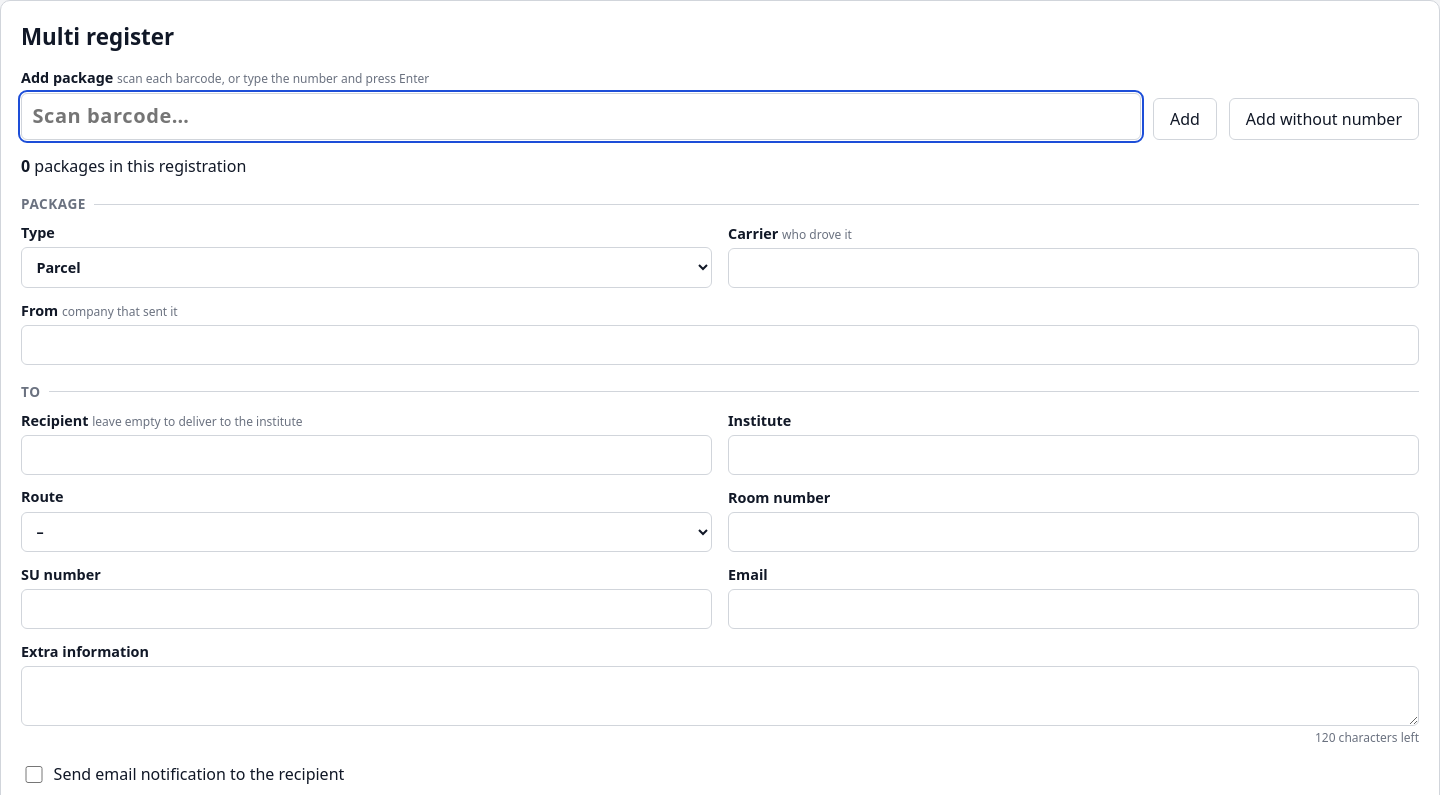
Test case: each scan adds a package; the first one fills in the shared details
This screenshot has width=1440, height=795.
Step 1. Type "SHIP-1" into the field labelled "Add package" → (581, 116), box [21,92,1141,140]
Then press Enter
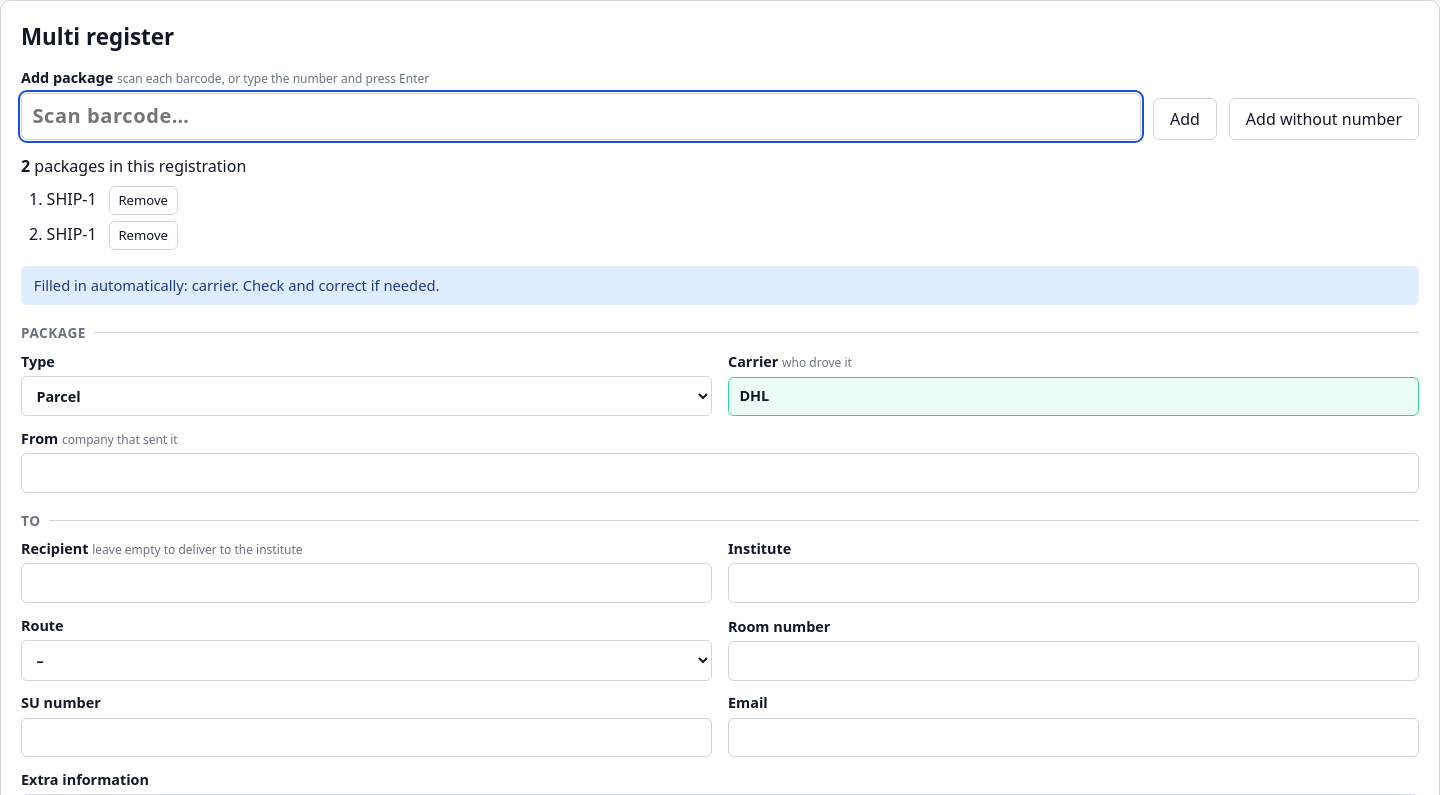
Expected: the text "SHIP-1" is shown 2 times, [47,188,97,210]; [47,223,97,245]
Expected: the text "2 packages in this registration" is shown, [21,154,246,176]
Expected: the field labelled "Carrier who drove it" holds "DHL", [728,377,1419,416]
